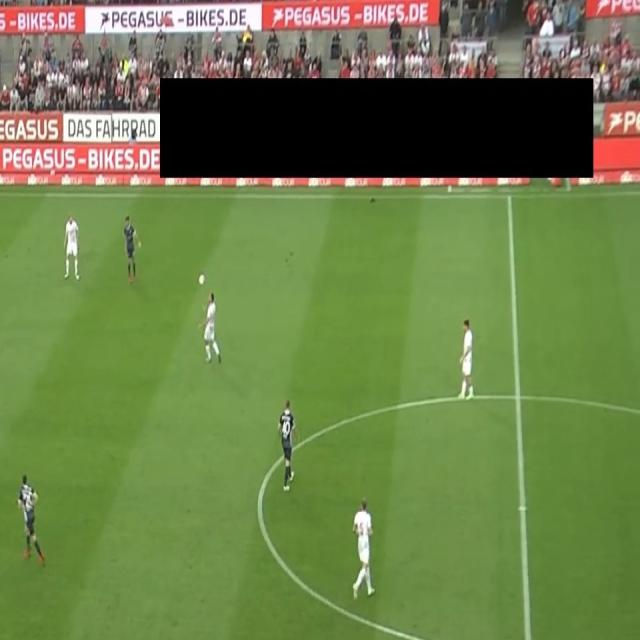ball: (198, 272, 206, 286)
